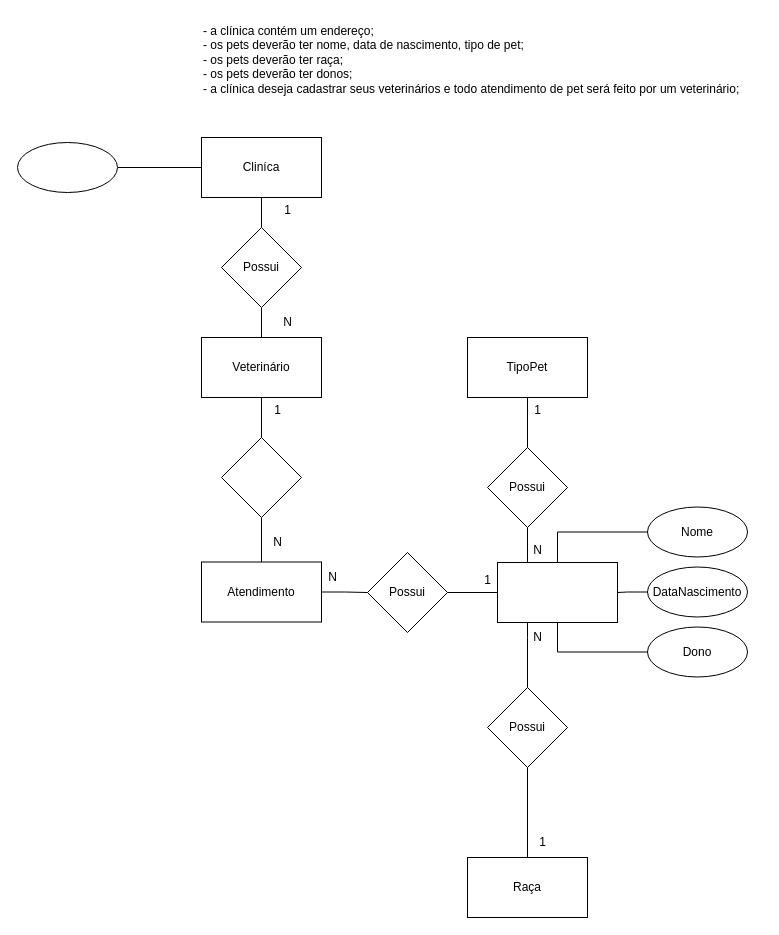
The diagram is 779 pixels wide and 935 high, and some of its shapes have lost their labels. Each missing label, with the centre of its shape:
Através: [261,477]
Endereço: [67,167]
Pet: [557,592]
